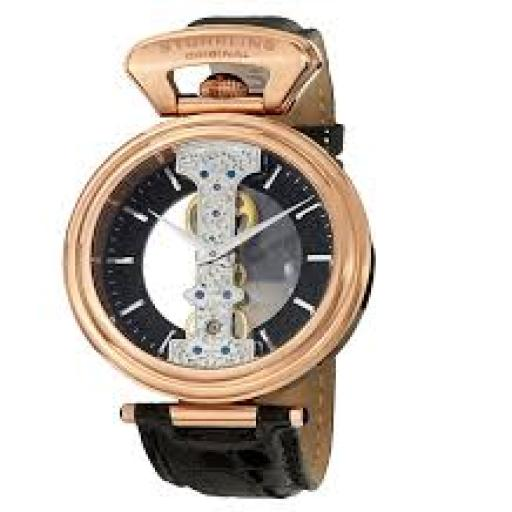KolSaati: (58, 4, 394, 509)
